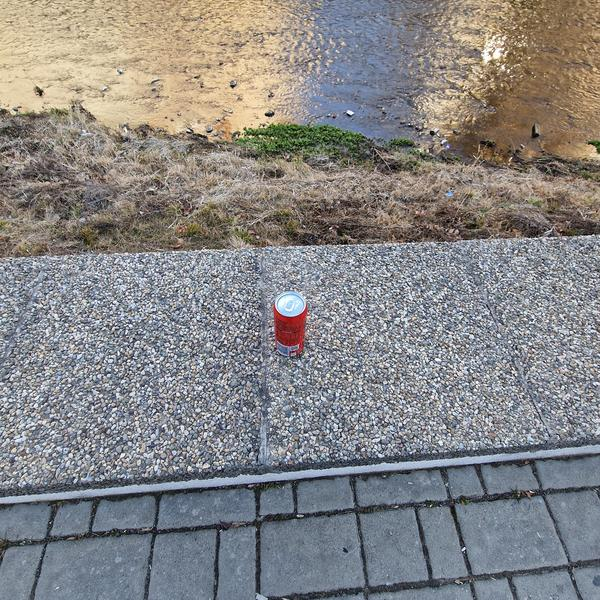can: (274, 291, 307, 358)
